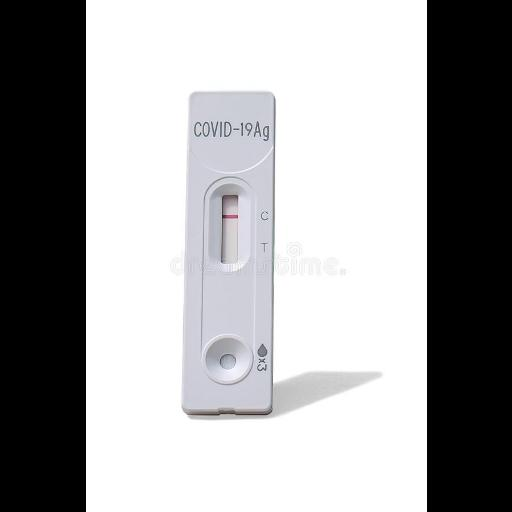Neg: (188, 92, 272, 412)
